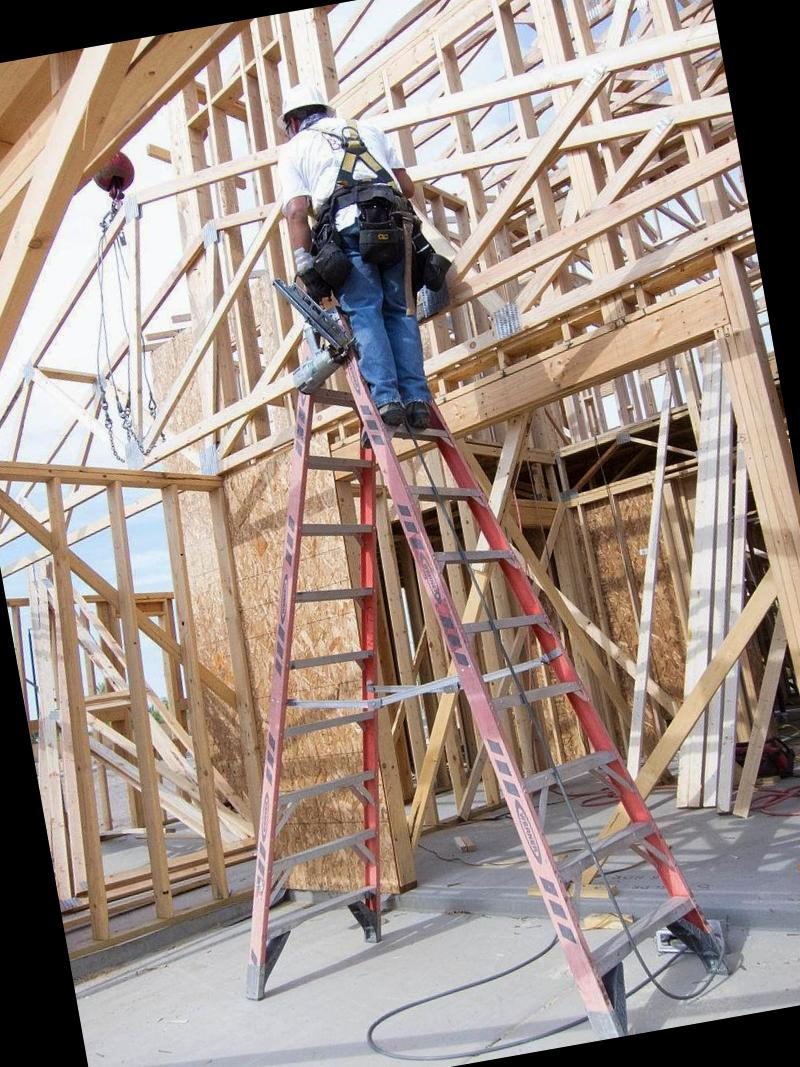helmet: (272, 77, 336, 113)
no_vest: (268, 108, 422, 228)
person: (251, 57, 462, 455)
